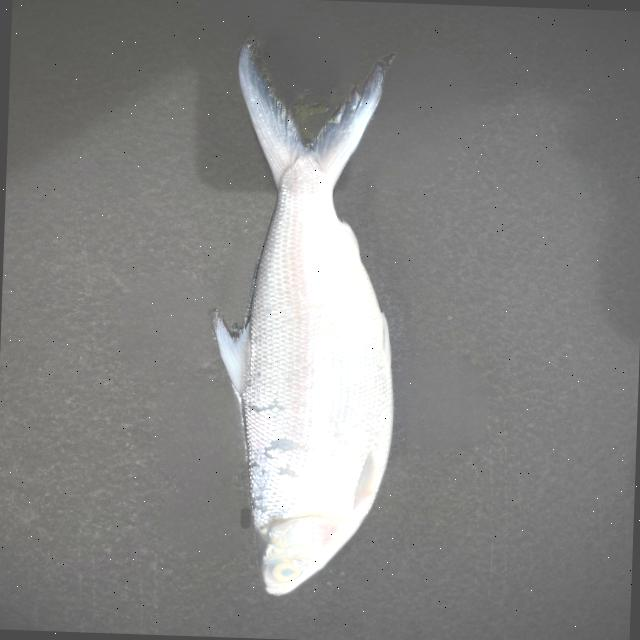640 g: (204, 41, 406, 600)
